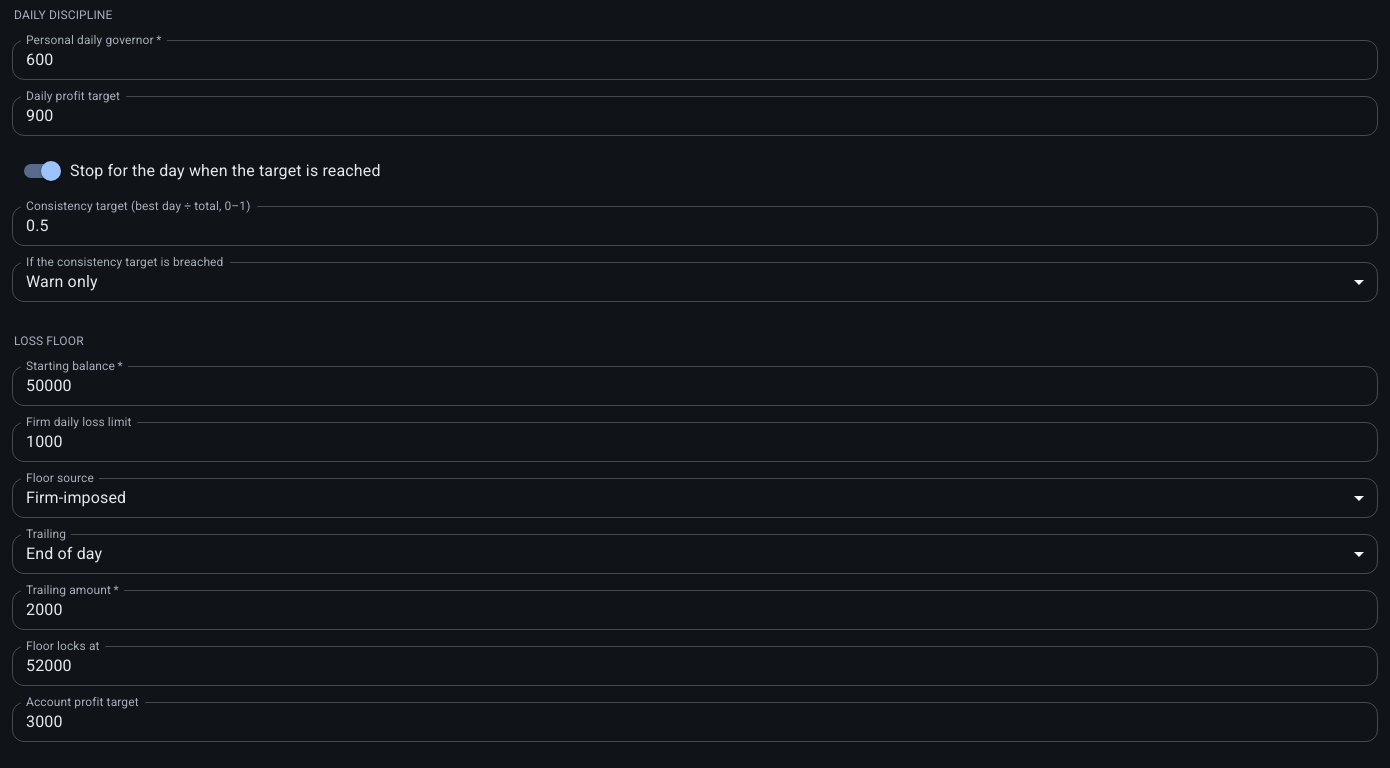
RiskProfileForm › blocks the send and shows a field error when a required value is cleared
Clear the number field labelled "Starting balance *" at (695, 386), box [12, 366, 1378, 406]
(page scrolled)
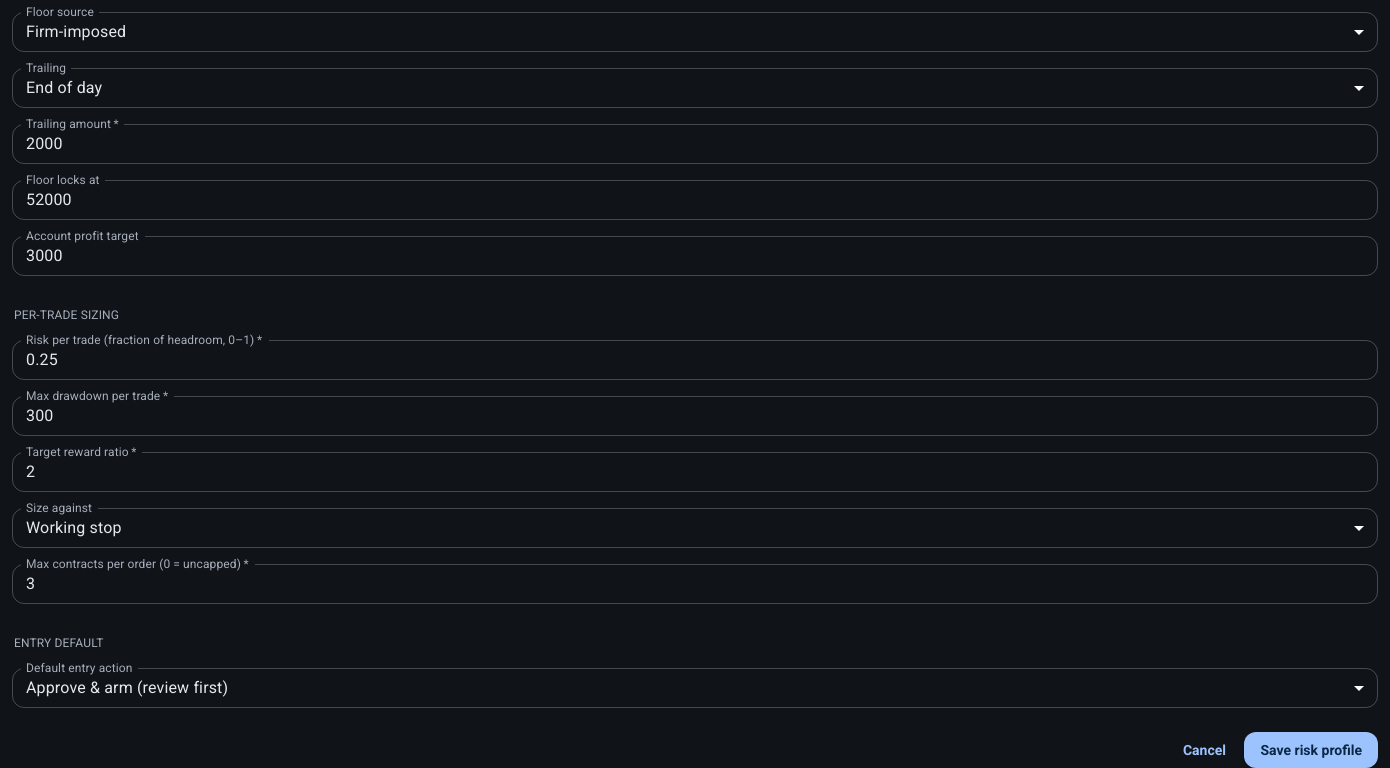
Click the button "Save risk profile" at (1311, 750), box [1244, 732, 1378, 767]
(page scrolled)
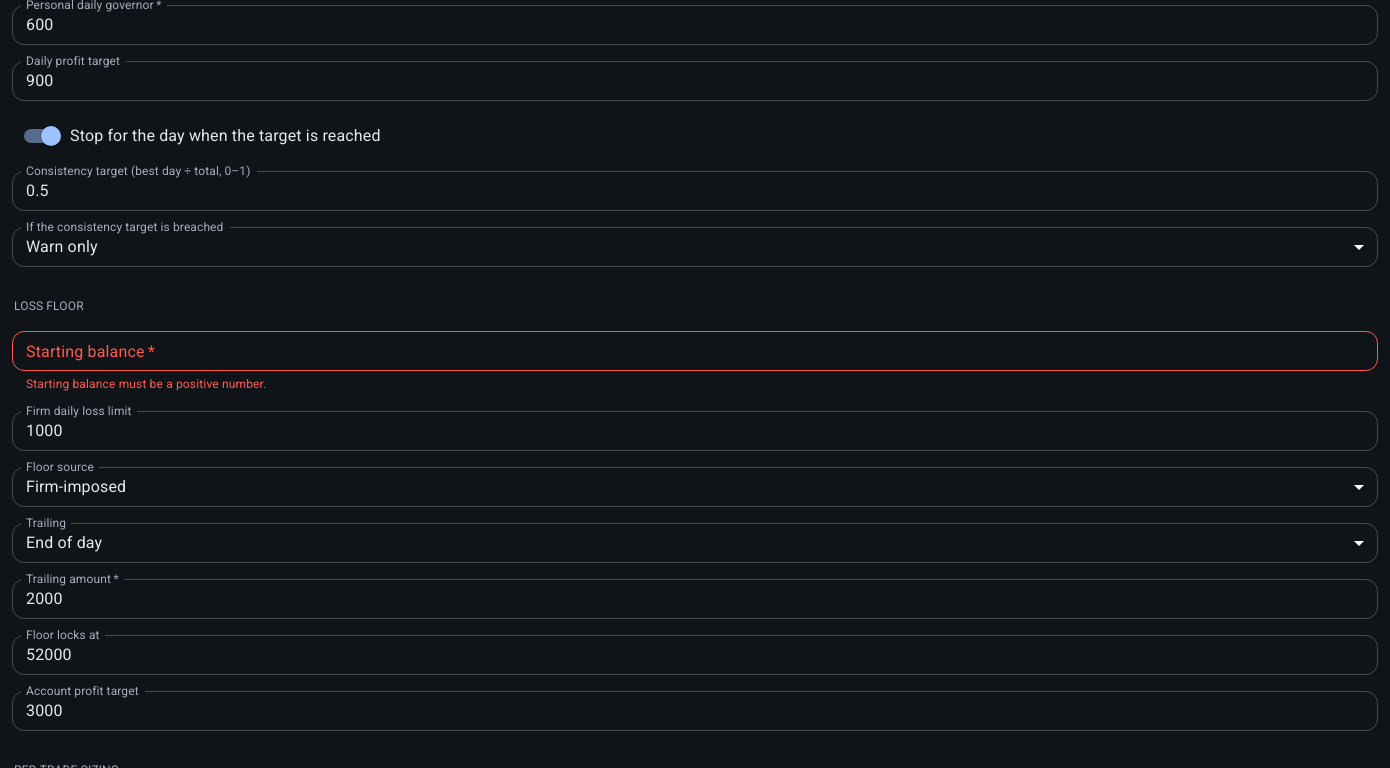
Expected: the text "Starting balance must be a positive number." is shown, [26, 377, 266, 391]
